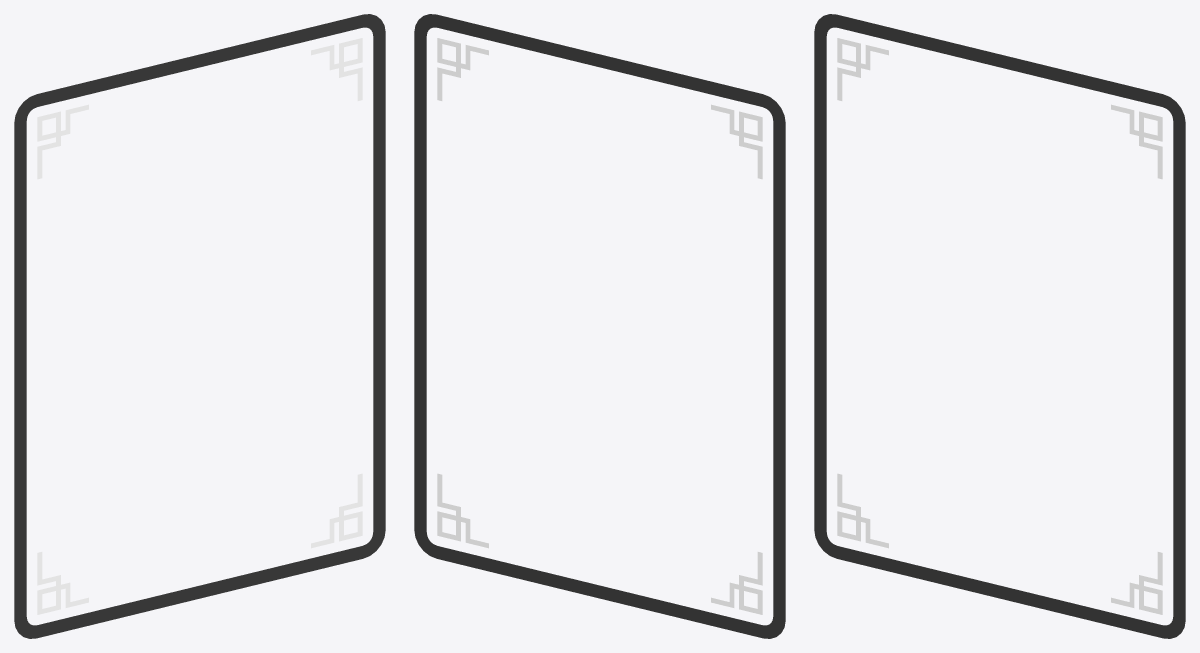
File: 0_card_front.glb
3 renders of one model, left to right at view 1: azimuth 30°, elevation 25°; view 2: azimuth 150°, elevation 25°; view 3: azimuth 330°, elevation 25°, orthographic.
Parts seen in each view (by area): view 1: CardBorder, Card_Details; view 2: CardBorder, Card_Details; view 3: CardBorder, Card_Details.
Boxes of the visible parts, <box> form: CardBorder: <box>14,14,385,638</box>; Card_Details: <box>37,38,362,614</box>; CardBorder: <box>414,14,785,638</box>; Card_Details: <box>437,38,762,614</box>; CardBorder: <box>814,14,1185,638</box>; Card_Details: <box>837,38,1162,614</box>.
Bounding box in the file's own units: 2.3 × 3.21 × 7.02e-08.
Materials: 1 (1 with a texture image).
